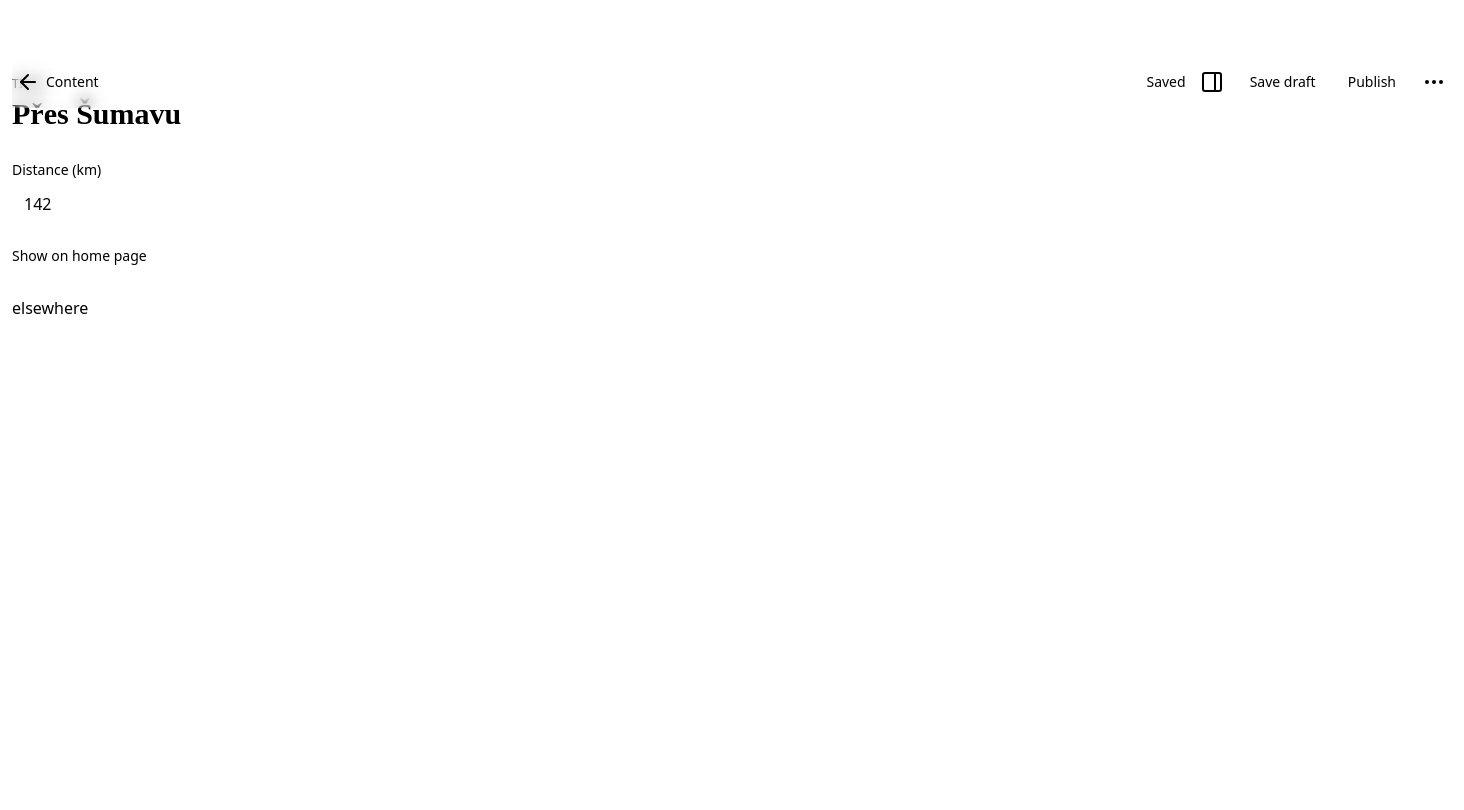
Test: existing entries › publishes a draft
The width and height of the screenshot is (1464, 810).
Click the button "Publish": x=1372, y=82 [1336, 66, 1408, 98]
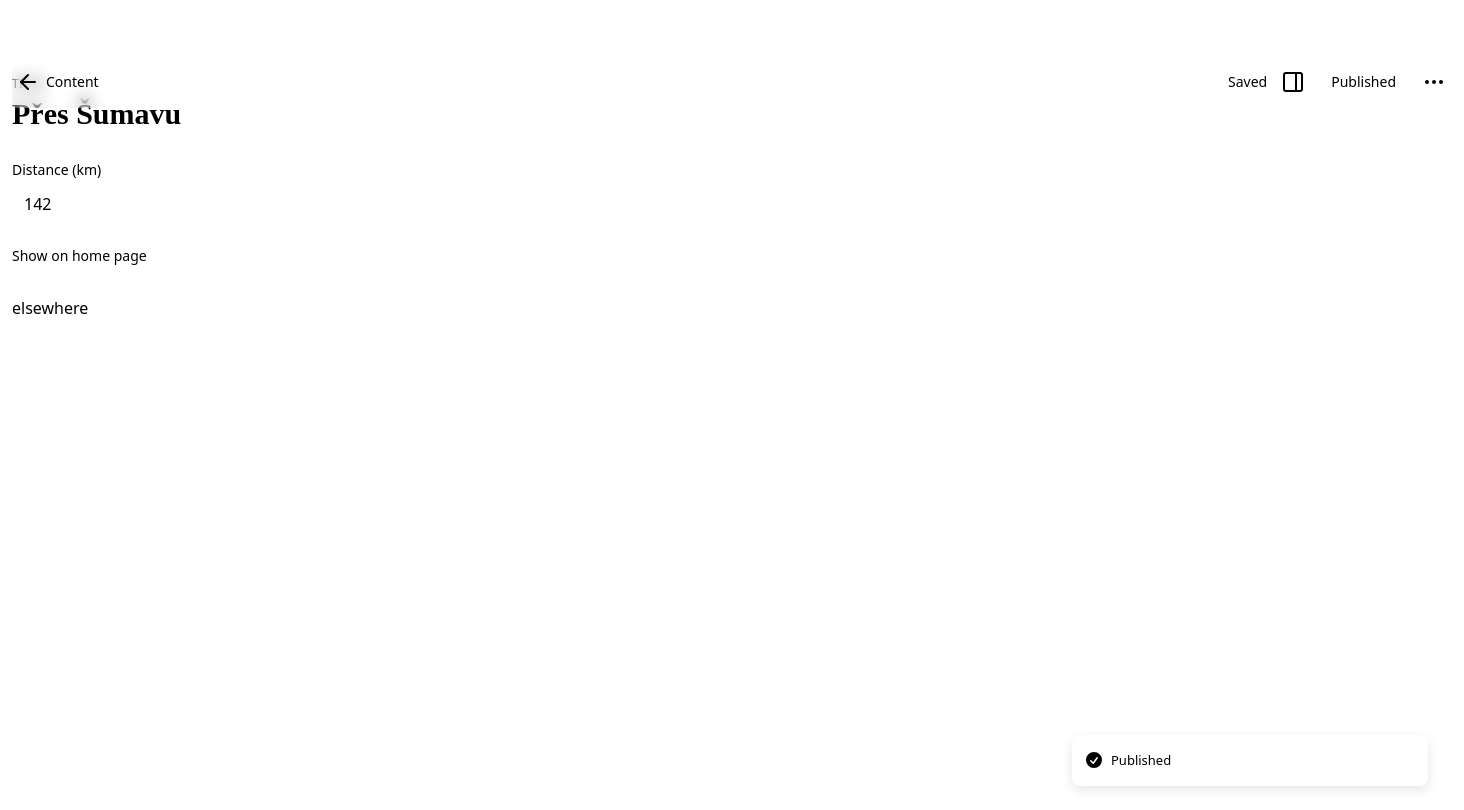
expect the button "Published" is disabled: met, box [1319, 66, 1408, 98]
